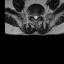CCS_severe_stenosis: (35, 14, 36, 21)
LFS_severe_stenosis: (38, 14, 40, 18)
LLS_normal: (36, 14, 38, 19)
RFS_severe_stenosis: (31, 13, 33, 18)
RLS_normal: (33, 14, 35, 19)
